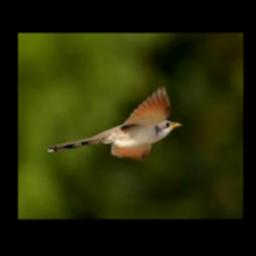Cuckoo: (48, 87, 183, 158)
